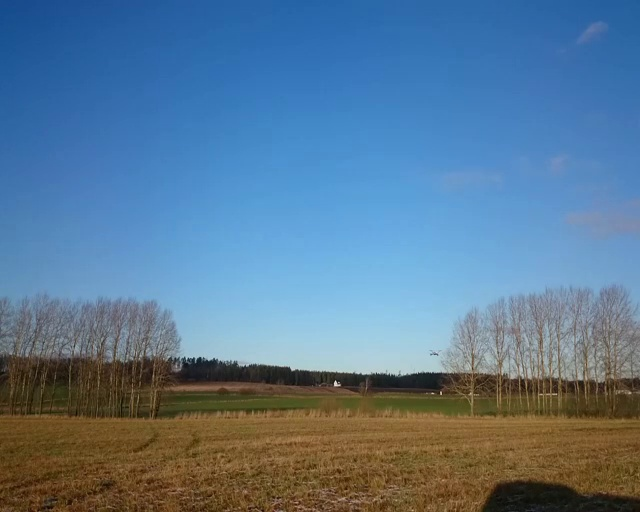DRONE: (333, 379, 362, 395)
